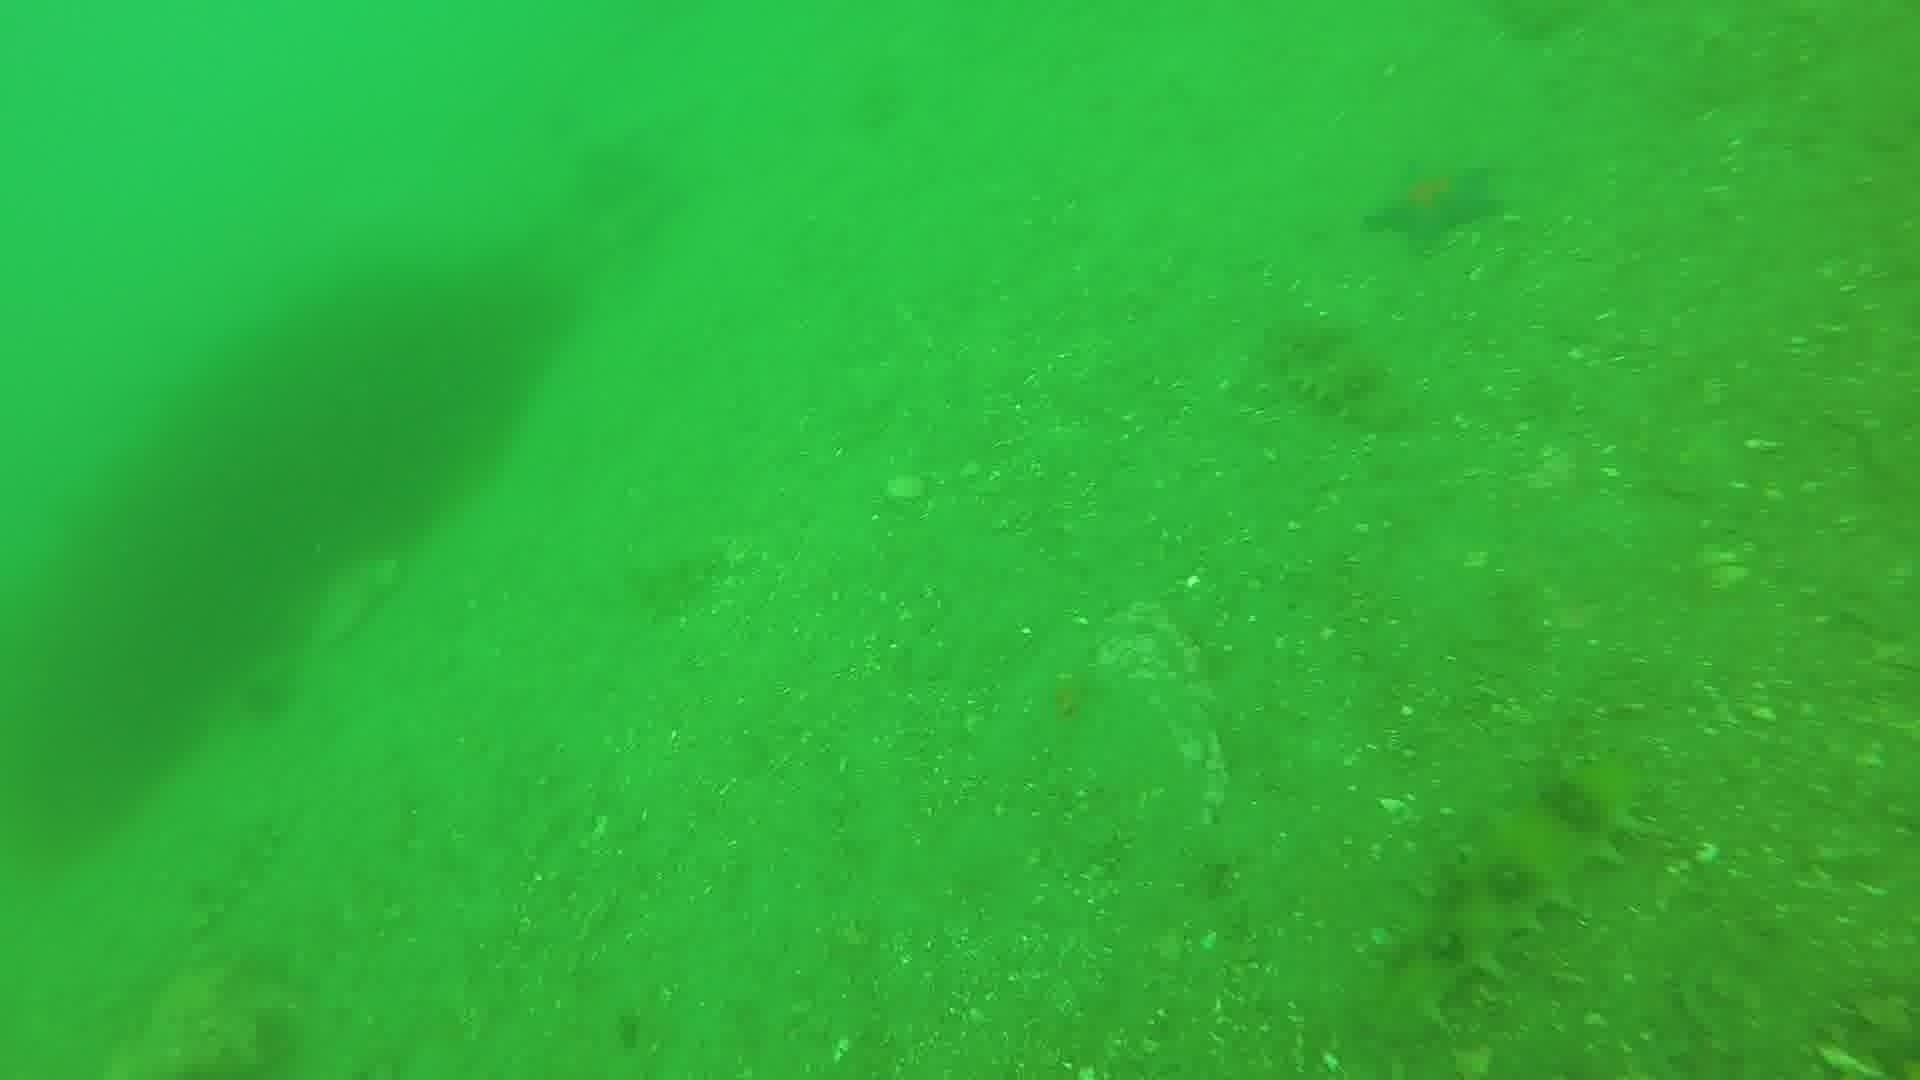holothurian: (1360, 746, 1658, 1056), (1261, 314, 1418, 435)
starfish: (1360, 153, 1507, 255)
